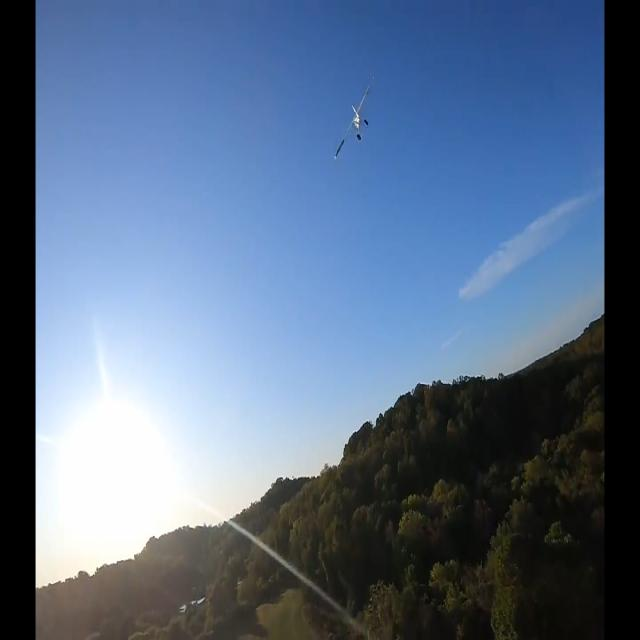iha: (333, 51, 371, 65)
